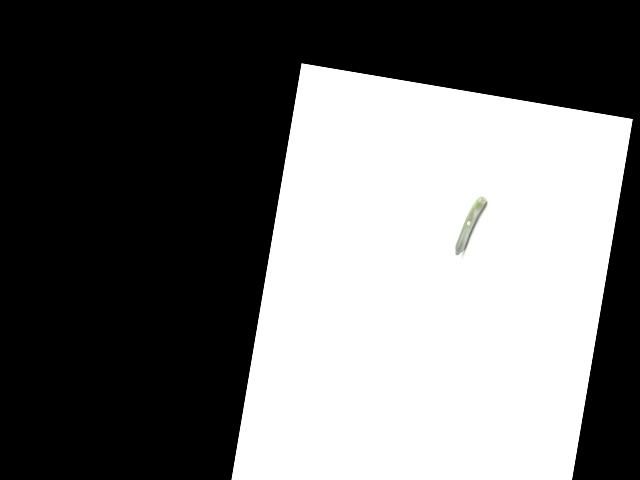cucumber: (454, 193, 487, 258)
